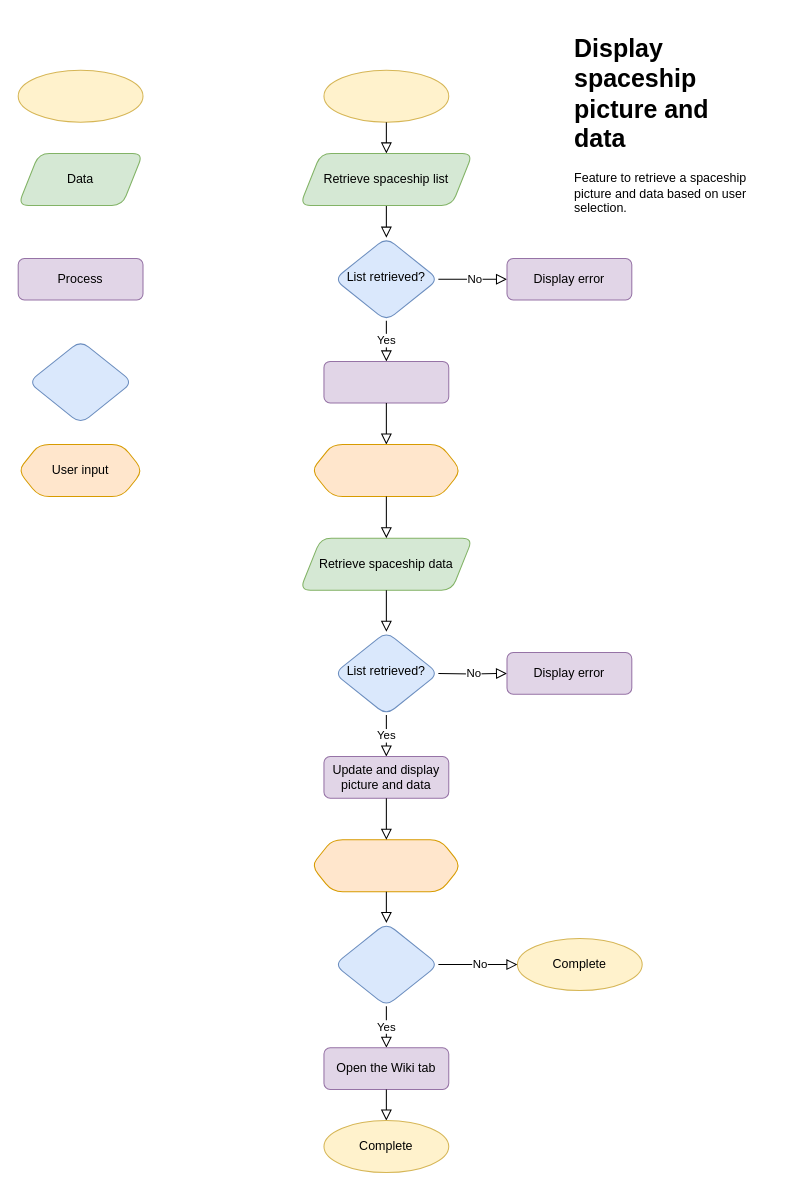
This 785x1191 diagram has some shape labels left out. Each missing label, with the centre of its shape:
"Build spaceship list" goes at (x=386, y=381).
"Decision" goes at (x=80, y=382).
"More info requested?" goes at (x=385, y=964).
"Page load" goes at (x=386, y=95).
"Start/Complete" goes at (x=80, y=95).
"User can click on more info" goes at (x=385, y=865).
"User select spaceship from list" goes at (x=385, y=470).
